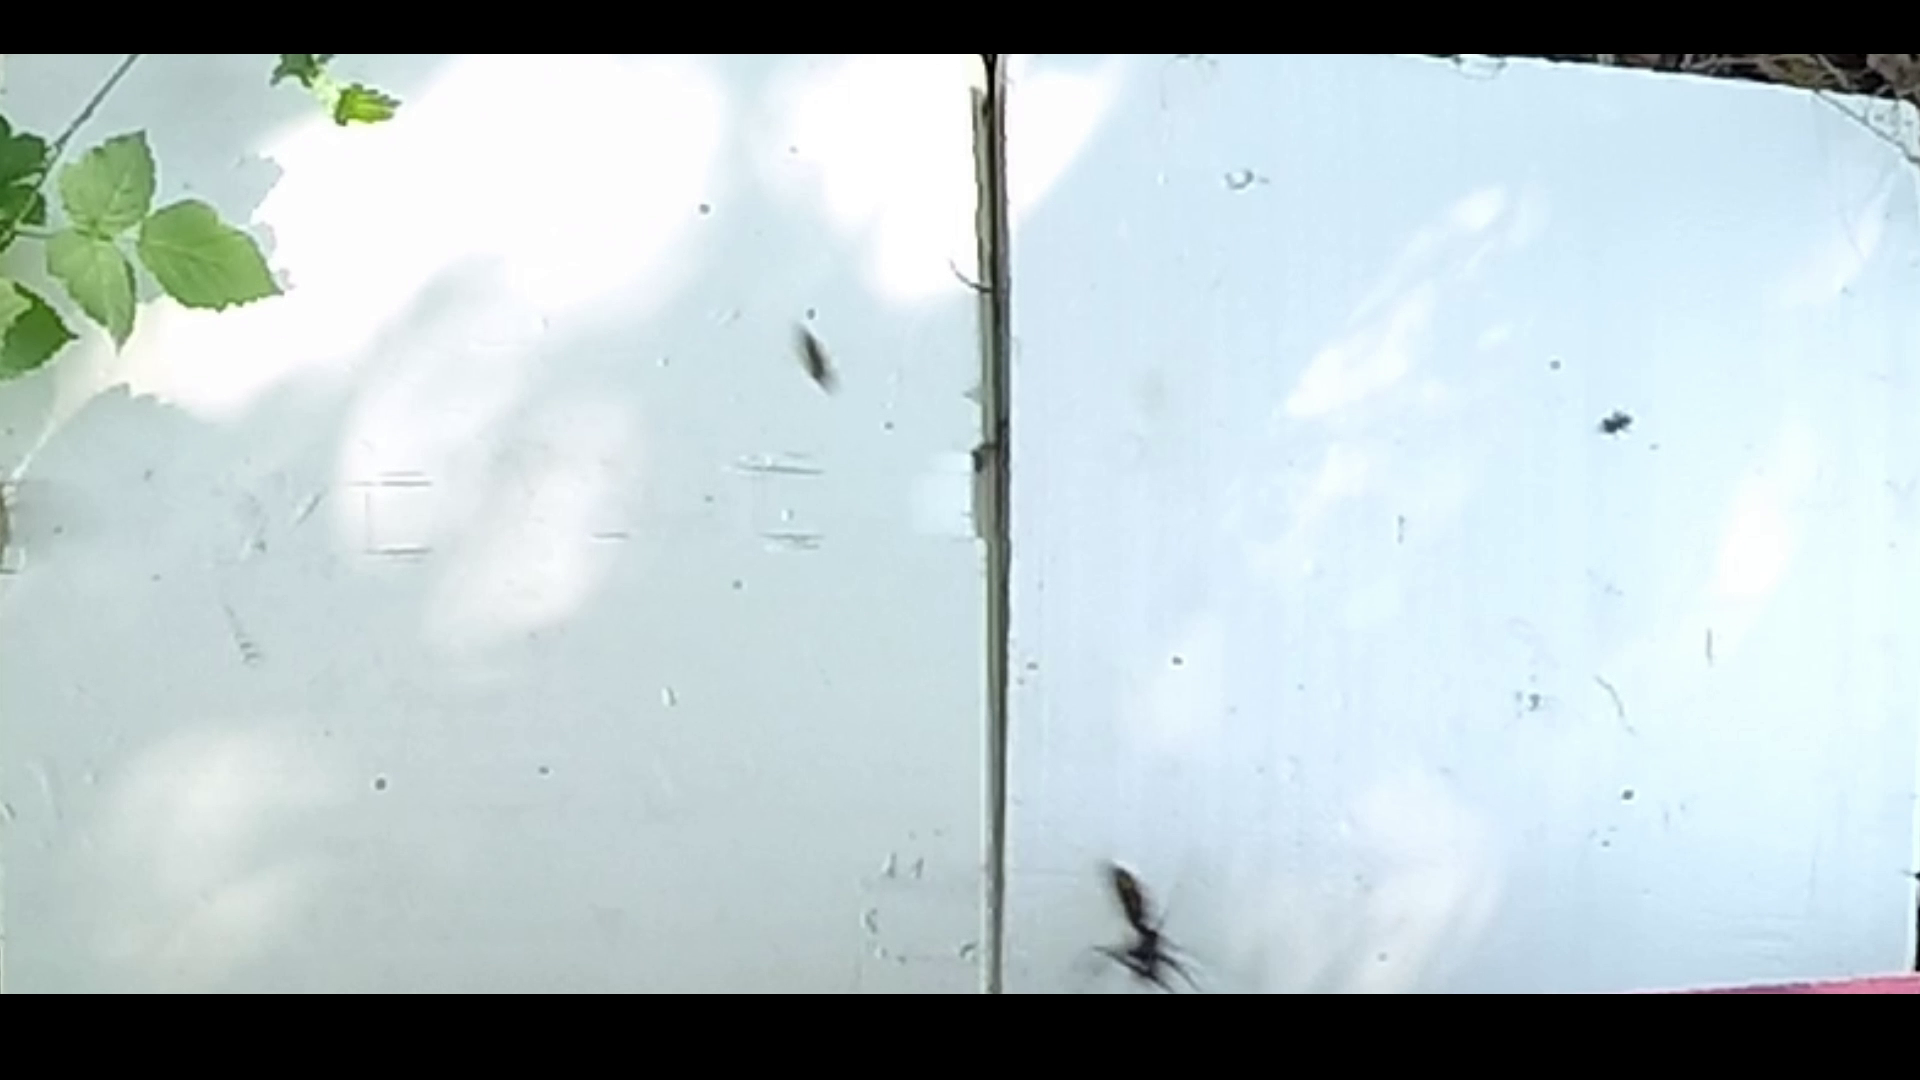Asian_hornets: (1075, 853, 1215, 996)
